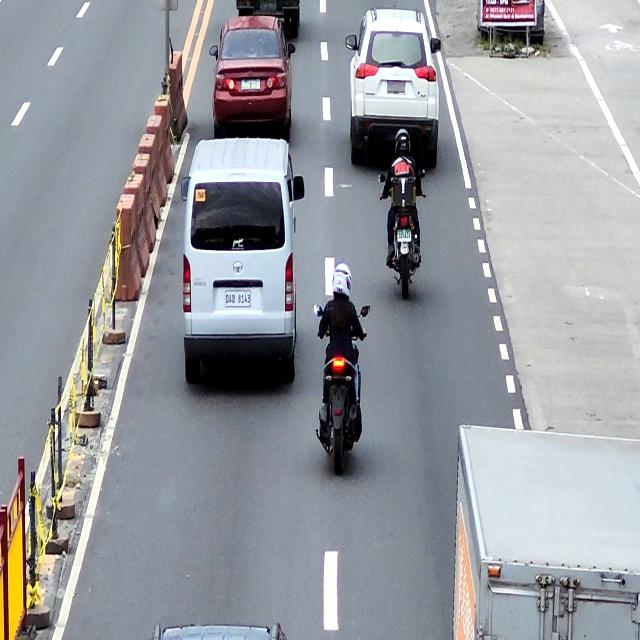Car: (180, 136, 305, 388), (345, 8, 441, 168), (209, 15, 295, 143)
License-Plate: (224, 290, 251, 307), (387, 80, 406, 94), (241, 79, 261, 90), (396, 230, 412, 242)
Motorcycle: (312, 302, 370, 472), (378, 169, 424, 298)
Truck: (452, 420, 640, 640)
